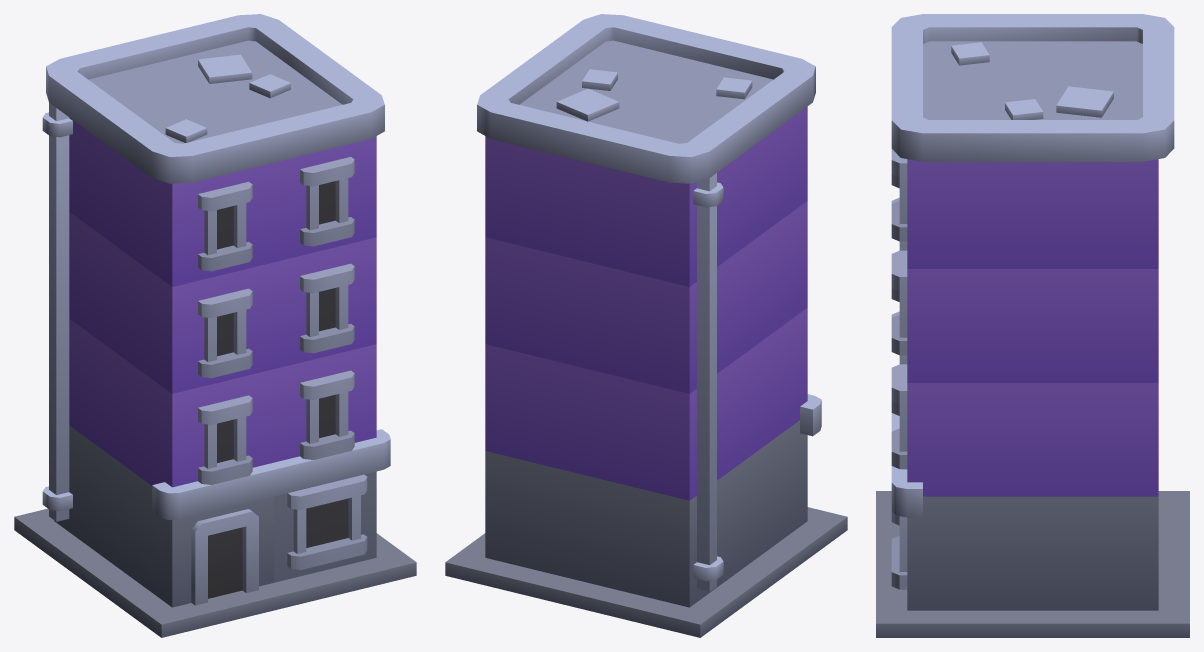
The model's file is building-small-c.glb.
3 renders of one model, left to right at view 1: azimuth 30°, elevation 25°; view 2: azimuth 150°, elevation 25°; view 3: azimuth 270°, elevation 25°, orthographic. The views are drawn at different scales.
Visible parts, largest first — view 1: building-small-c; view 2: building-small-c; view 3: building-small-c.
Boxes of the visible parts, x1=… form: building-small-c: x1=14, y1=14, x2=416, y2=637; building-small-c: x1=445, y1=14, x2=847, y2=637; building-small-c: x1=876, y1=14, x2=1189, y2=637.
Size of the model in its own units: 1 by 1.75 by 1.
Materials: 1 (1 with a texture image).
